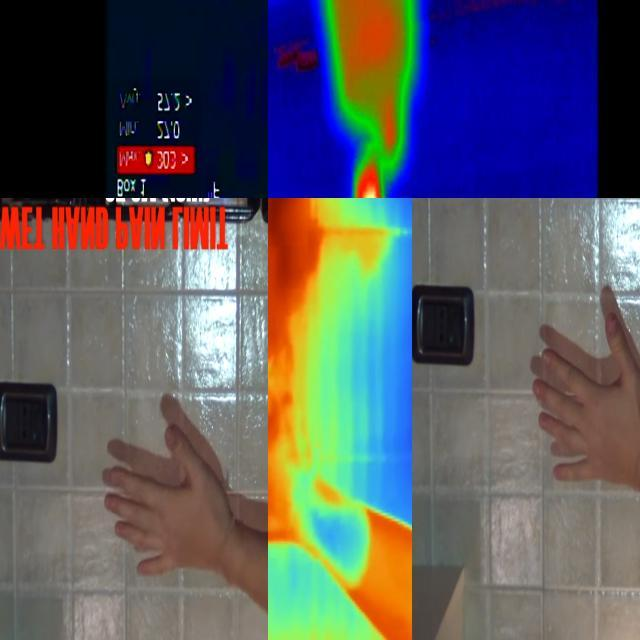fire: (353, 149, 399, 199)
